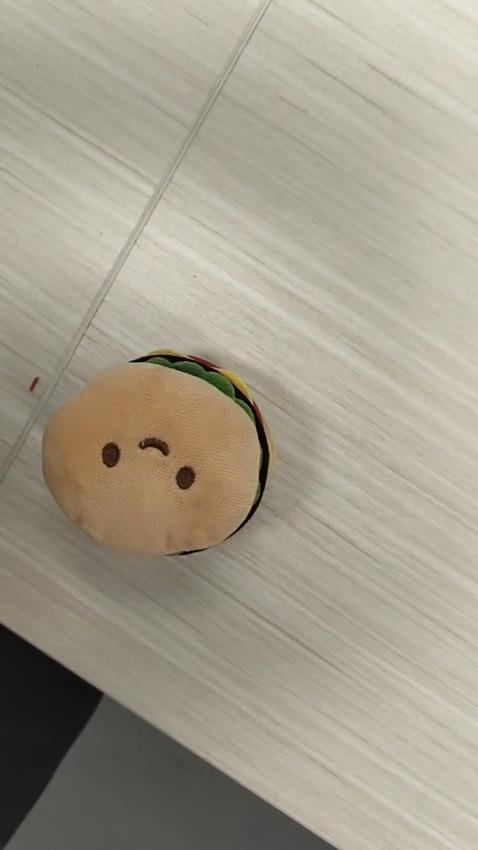hamburger: (41, 346, 270, 562)
